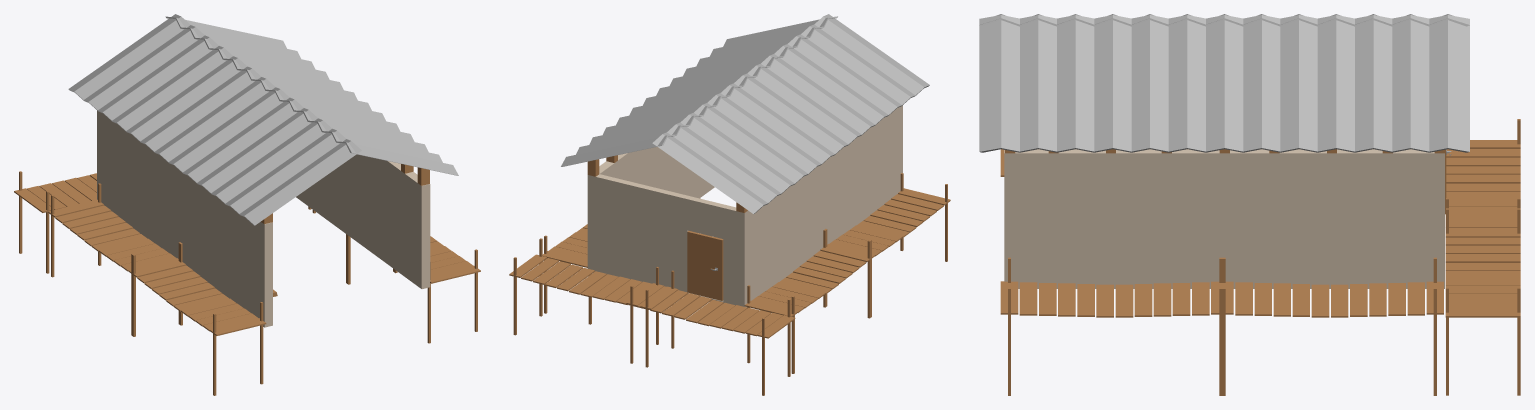
File: BoatHouse (1).fbx
The picture shows the model from 3 angles, left to right: view 1: azimuth 30°, elevation 25°; view 2: azimuth 150°, elevation 25°; view 3: azimuth 270°, elevation 25°; orthographic projection. The views are drawn at different scales.
Parts seen in each view (by area): view 1: BoutHouaseRoof, BoatHouse, Pier; view 2: BoutHouaseRoof, BoatHouse, Pier, PierDoor; view 3: BoutHouaseRoof, BoatHouse, Pier.
Part boxes in pixels (bbox=[...]): BoutHouaseRoof: bbox=[68, 14, 458, 225]; BoatHouse: bbox=[97, 110, 430, 327]; Pier: bbox=[14, 171, 480, 395]; BoutHouaseRoof: bbox=[561, 14, 929, 214]; BoatHouse: bbox=[587, 105, 902, 307]; Pier: bbox=[509, 173, 950, 395]; PierDoor: bbox=[687, 231, 723, 300]; BoutHouaseRoof: bbox=[979, 14, 1469, 152]; BoatHouse: bbox=[1004, 149, 1444, 288]; Pier: bbox=[1000, 119, 1520, 395].
Bounding box in the file's own units: 29.09 × 22.74 × 37.87.
